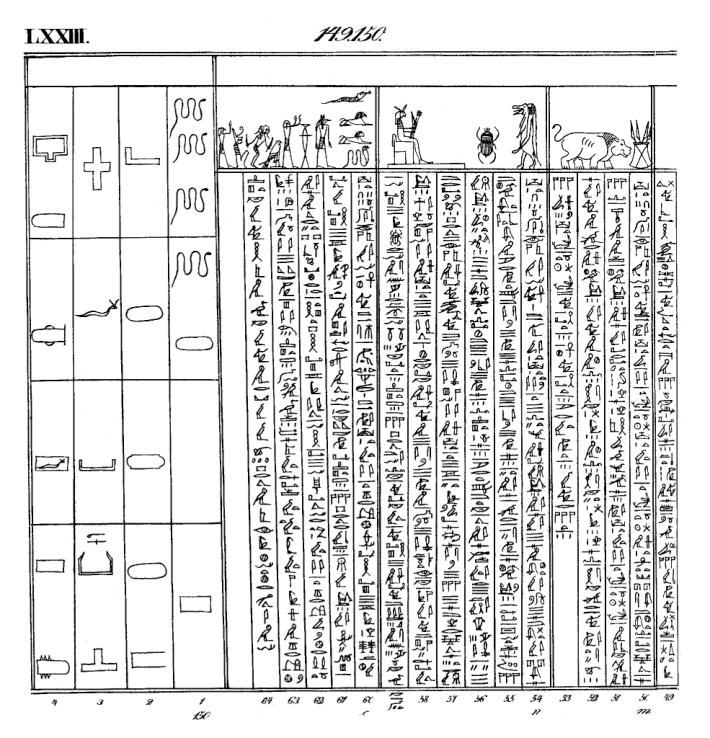circle: (124, 443, 167, 476), (125, 555, 171, 582), (30, 205, 74, 233), (35, 649, 73, 681), (170, 330, 214, 356), (120, 302, 167, 324), (31, 327, 70, 343)
